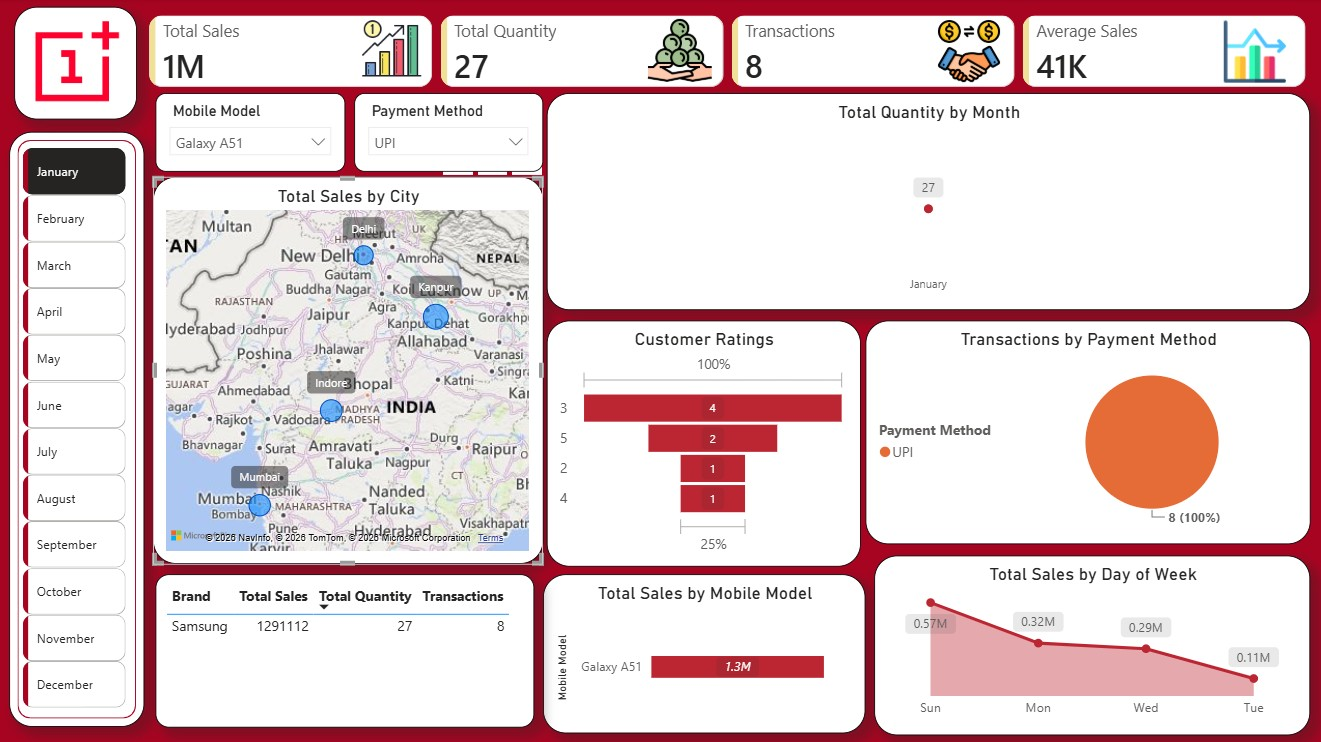

Layout of this report page (visuals, bound fields, positions):
{"tool":"powerbi","page":{"name":"PROJECT 1","canvas":[1280,720],"ordinal":0},"visuals":[{"type":"shape","box":[15.7,8.4,118.2,108.6],"z":0},{"type":"shape","box":[10.9,129.1,130.3,574.3],"z":1000},{"type":"image","box":[30.2,8.4,91.7,109.8],"z":2000},{"type":"advancedSlicerVisual","fields":{"Values":["Sales_Data.Date.Variation.Date Hierarchy.Month"]},"box":[19.3,139.9,109.8,555],"z":3000},{"type":"cardVisual","fields":{"Data":["Sales_Data.Total Sales","Sales_Data.Total Quantity","Sales_Data.Transactions","Sales_Data.Average"]},"box":[129.1,0,1150.9,103.8],"z":4000},{"type":"image","box":[306.4,13.3,147.2,74.8],"z":5000},{"type":"image","box":[606.8,18.1,102.5,65.1],"z":6000},{"type":"image","box":[898.8,19.3,77.2,63.9],"z":7000},{"type":"image","box":[1170.2,21.7,85.7,60.3],"z":8000},{"type":"map","fields":{"Category":["Sales_Data.City"],"Size":["Sales_Data.Total Sales"]},"box":[149.6,172.5,376.4,374],"z":9000},{"type":"lineChart","fields":{"Y":["Sales_Data.Total Quantity"],"Category":["Sales_Data.Date.Variation.Date Hierarchy.Month","Sales_Data.Date.Variation.Date Hierarchy.Day"]},"box":[529.6,91.7,737.1,209.9],"z":10000},{"type":"clusteredBarChart","fields":{"Category":["Sales_Data.Mobile Model"],"Y":["Sales_Data.Total Sales"]},"box":[526,556.2,311.3,153.2],"z":11000},{"type":"pieChart","fields":{"Category":["Sales_Data.Payment Method"],"Y":["Sales_Data.Transactions"]},"box":[837.3,311.3,429.5,216],"z":12000},{"type":"funnel","title":" Customer Ratings ","fields":{"Category":["Sales_Data.Customer Ratings"],"Y":["CountNonNull(Sales_Data.Customer Ratings)"]},"box":[529.6,311.3,302.8,237.7],"z":13000},{"type":"areaChart","fields":{"Y":["Sales_Data.Total Sales"],"Category":["Sales_Data.Day Short"]},"box":[845.7,538.1,421,173.7],"z":14000},{"type":"tableEx","fields":{"Values":["Sales_Data.Brand","Sales_Data.Total Sales","Sales_Data.Total Quantity","Sales_Data.Transactions"]},"box":[151.8,556.7,365.9,147.9],"z":15000},{"type":"slicer","fields":{"Values":["Sales_Data.Mobile Model"]},"box":[152,91.7,183.4,76],"z":16000},{"type":"slicer","fields":{"Values":["Sales_Data.Payment Method"]},"box":[343.8,91.7,182.2,76],"z":17000}]}

Visuals, with their boxes in screenshot pixels (x1, y1, x2, y2), scaled from the page's 1280x720 canvas onto the 1321x742 screenshot:
shape: (16, 9, 138, 121)
shape: (11, 133, 146, 725)
image: (31, 9, 126, 122)
advancedSlicerVisual - Sales_Data.Date.Variation.Date Hierarchy.Month: (20, 144, 133, 716)
cardVisual - Sales_Data.Total Sales x Sales_Data.Total Quantity: (133, 0, 1320, 107)
image: (316, 14, 468, 91)
image: (626, 19, 732, 86)
image: (928, 20, 1007, 86)
image: (1208, 22, 1296, 85)
map - Sales_Data.City x Sales_Data.Total Sales: (154, 178, 543, 563)
lineChart - Sales_Data.Total Quantity x Sales_Data.Date.Variation.Date Hierarchy.Month: (547, 95, 1307, 311)
clusteredBarChart - Sales_Data.Mobile Model x Sales_Data.Total Sales: (543, 573, 864, 731)
pieChart - Sales_Data.Payment Method x Sales_Data.Transactions: (864, 321, 1307, 543)
" Customer Ratings " funnel: (547, 321, 859, 566)
areaChart - Sales_Data.Total Sales x Sales_Data.Day Short: (873, 555, 1307, 734)
tableEx - Sales_Data.Brand x Sales_Data.Total Sales: (157, 574, 534, 726)
slicer - Sales_Data.Mobile Model: (157, 95, 346, 173)
slicer - Sales_Data.Payment Method: (355, 95, 543, 173)
